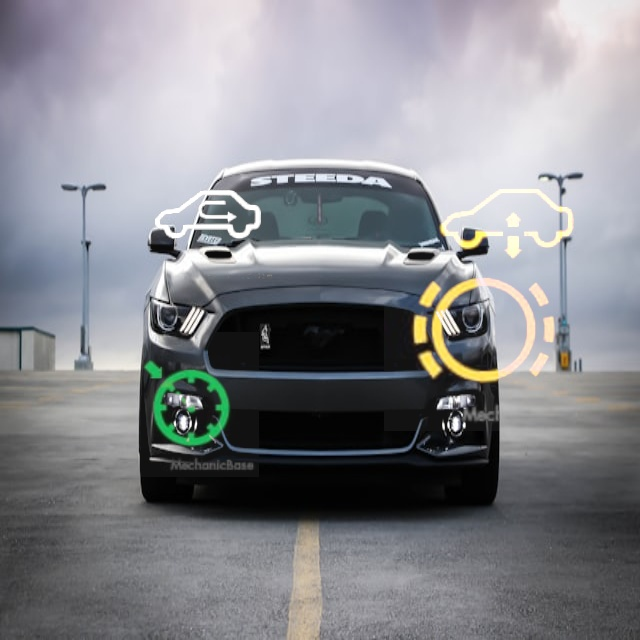symbol: (384, 231, 584, 431), (418, 137, 596, 315), (114, 332, 259, 477), (138, 146, 278, 286)
